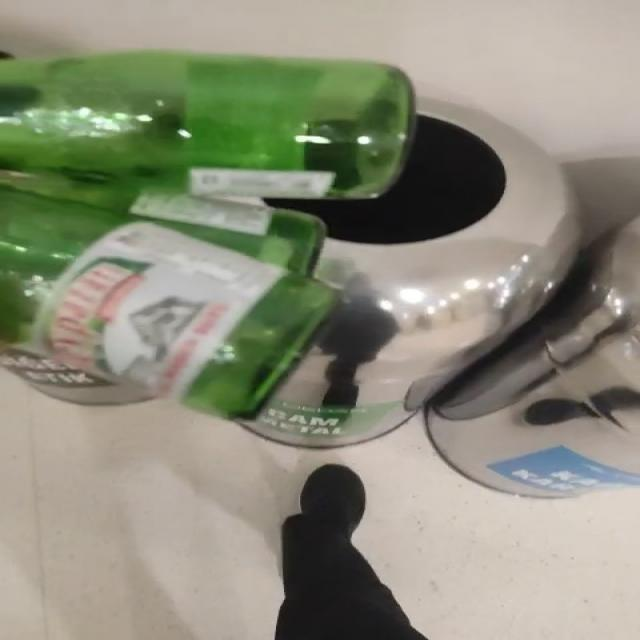Glass: (1, 51, 413, 419)
